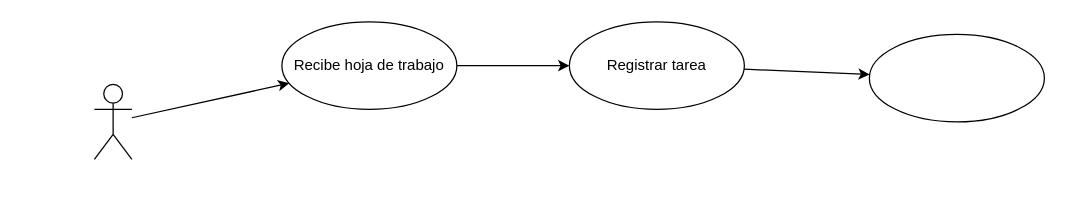
Some shapes in this 1066 by 208 pixel diagram are drawn without their labels. The shapes that lost their labels are listed below. From the top down, each one's centre as x and y in pixels, then its label:
At [956,77]: "Registrar tarea finalizada".
At [112,121]: "Personal de Mantenimiento".
